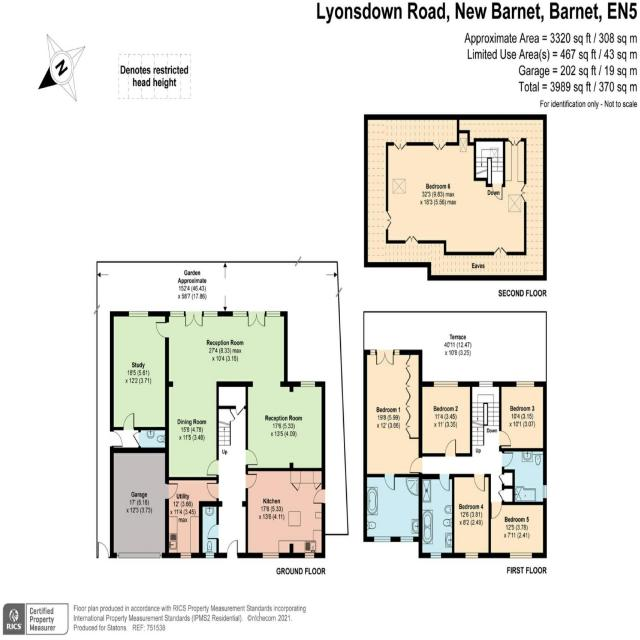DOOR: (409, 456, 423, 474), (155, 321, 169, 339), (245, 448, 258, 466), (473, 473, 485, 492), (226, 539, 238, 558), (206, 459, 219, 476), (165, 483, 178, 500), (206, 482, 219, 499), (491, 501, 502, 520), (110, 431, 123, 447), (499, 430, 511, 447), (123, 413, 135, 430), (445, 439, 456, 457), (313, 489, 326, 504), (502, 452, 514, 468), (245, 473, 257, 489), (207, 524, 219, 540), (439, 474, 450, 491)
DOUBLE DOOR: (246, 310, 266, 328), (185, 310, 203, 328)
ROOM: (154, 310, 325, 481), (363, 350, 422, 491), (109, 311, 170, 431), (245, 468, 325, 559), (418, 381, 472, 457), (499, 381, 547, 451), (488, 502, 547, 558), (452, 474, 491, 558)
WINDOW: (509, 552, 532, 559), (433, 381, 458, 387), (373, 536, 391, 543), (128, 311, 149, 317), (262, 552, 279, 559), (516, 381, 535, 387), (300, 381, 316, 388), (465, 552, 479, 559), (266, 311, 281, 317), (232, 311, 247, 317), (203, 311, 218, 317), (170, 311, 185, 317), (479, 381, 493, 387), (400, 536, 414, 542), (180, 552, 192, 559), (304, 552, 315, 559), (430, 552, 442, 558), (205, 552, 215, 559), (543, 484, 547, 499), (370, 349, 376, 355), (394, 349, 400, 355)
